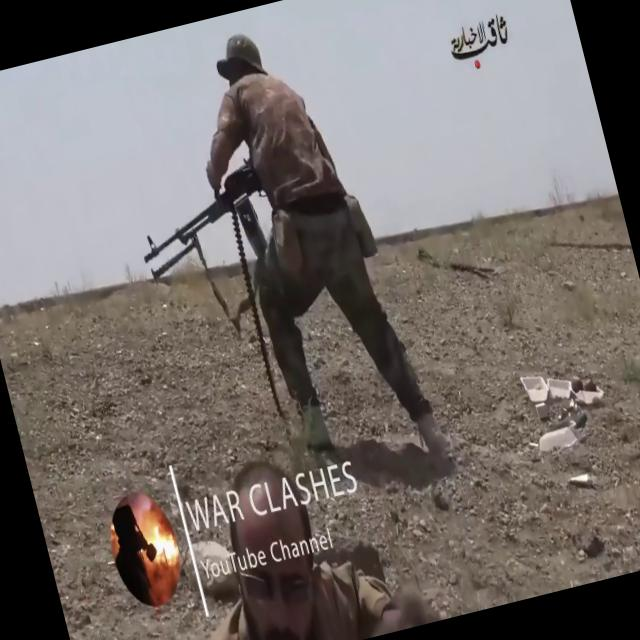long weapon: (115, 148, 284, 301)
